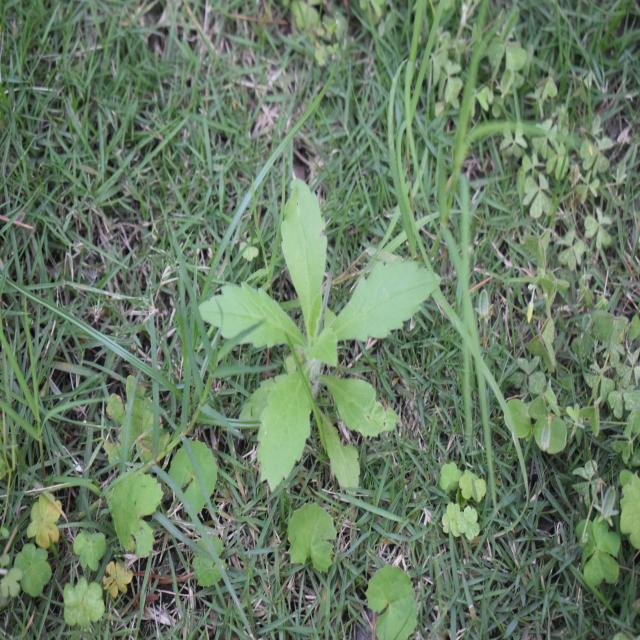horseweed: (220, 191, 424, 506)
